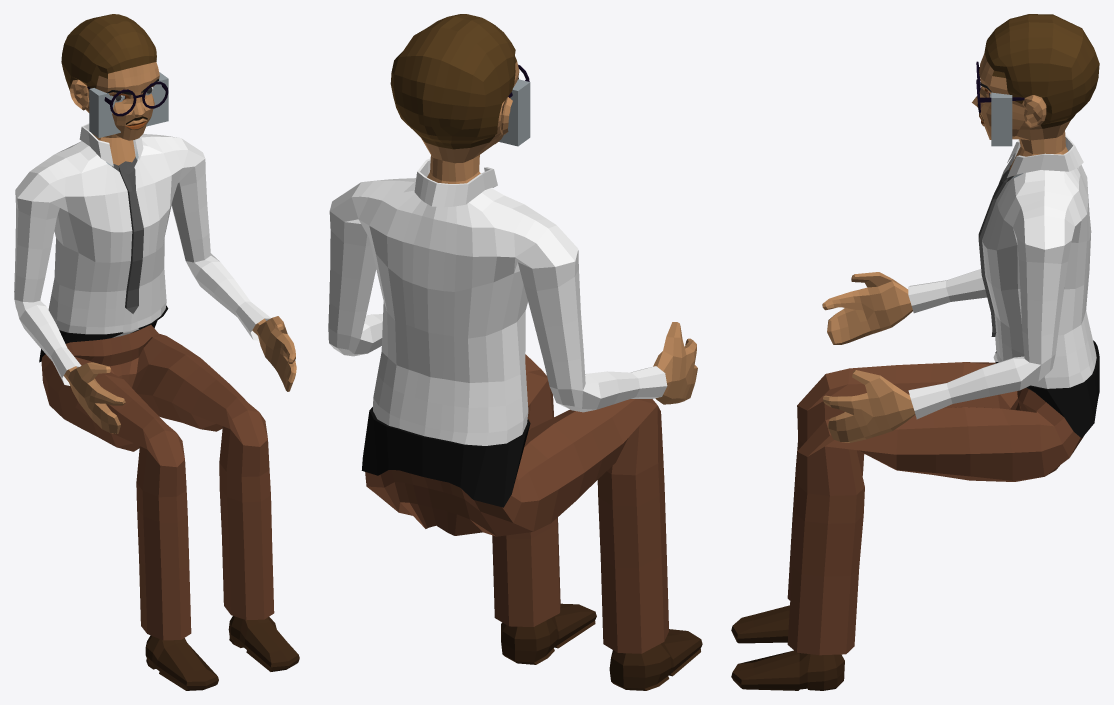
File: TeacherMale_A_Sit_Mask.fbx
3 views of the same model, side by side, from view 1: azimuth 30°, elevation 25°; view 2: azimuth 150°, elevation 25°; view 3: azimuth 270°, elevation 25° (orthographic). The views are drawn at different scales.
Visible parts, largest first — view 1: TeacherMale_A_Sit_Mask; view 2: TeacherMale_A_Sit_Mask; view 3: TeacherMale_A_Sit_Mask.
Part boxes in pixels (<box>): TeacherMale_A_Sit_Mask: <box>14,14,299,690</box>; TeacherMale_A_Sit_Mask: <box>328,14,702,690</box>; TeacherMale_A_Sit_Mask: <box>731,14,1099,690</box>.
Bounding box in the file's own units: 0.2883 × 0.7301 × 0.3804.
